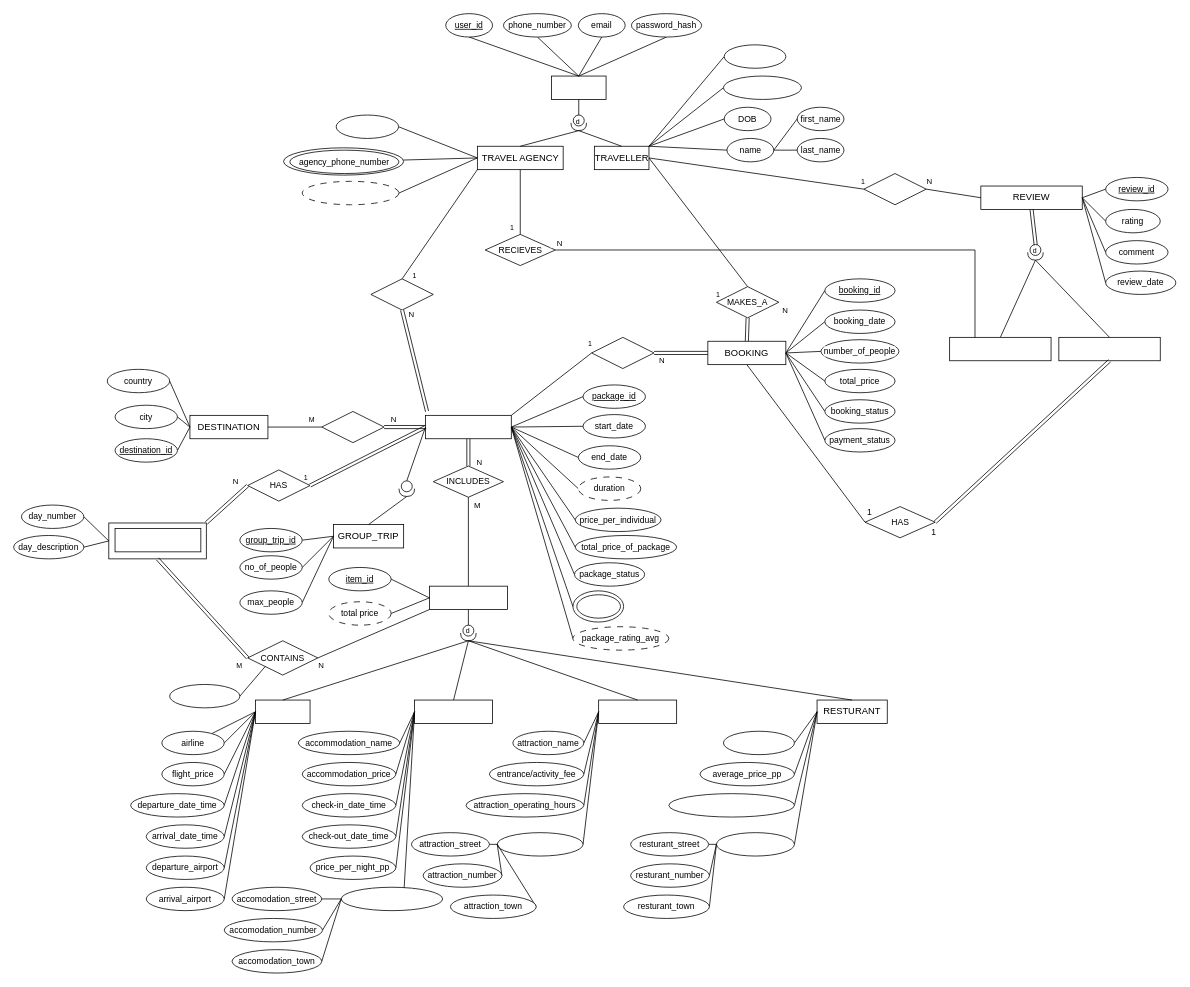
This 1190x987 diagram has some shape labels left out. Each missing label, with the centre of its shape:
"ACCOMODATION" belongs at point 453,711.
"accomodation_address" belongs at point 391,898.
"agency_name" belongs at point 367,126.
"agency_rating_avg" belongs at point 350,193.
"AGENCY_REVIEW" belongs at point 1000,349.
"attraction_address" belongs at point 539,844.
"CREATES" belongs at point 401,294.
"FLIGHT" belongs at point 282,711.
"FOR" belongs at point 352,427.
"FOR_A" belongs at point 622,353.
"id_number" belongs at point 754,56.
"images" belongs at point 598,606.
"item_order" belongs at point 204,696.
"ITINERARY_DAY" belongs at point 157,540.
"PACKAGE_REVIEW" belongs at point 1109,349.
"residing_country" belongs at point 762,87.
"resturant_address" belongs at point 755,844.
"resturant_name" belongs at point 758,742.
"resturant_operating_hours" belongs at point 731,805.
"TOURIST ATTRACTION" belongs at point 637,711.
"TRAVEL ITEM" belongs at point 468,597.
"TRAVEL PACKAGE" belongs at point 468,427.
"USER" belongs at point 578,87.
"WRITES" belongs at point 894,189.
